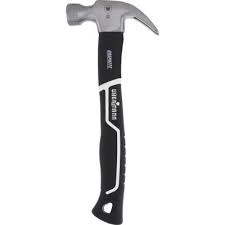martillu: (61, 1, 162, 222)
